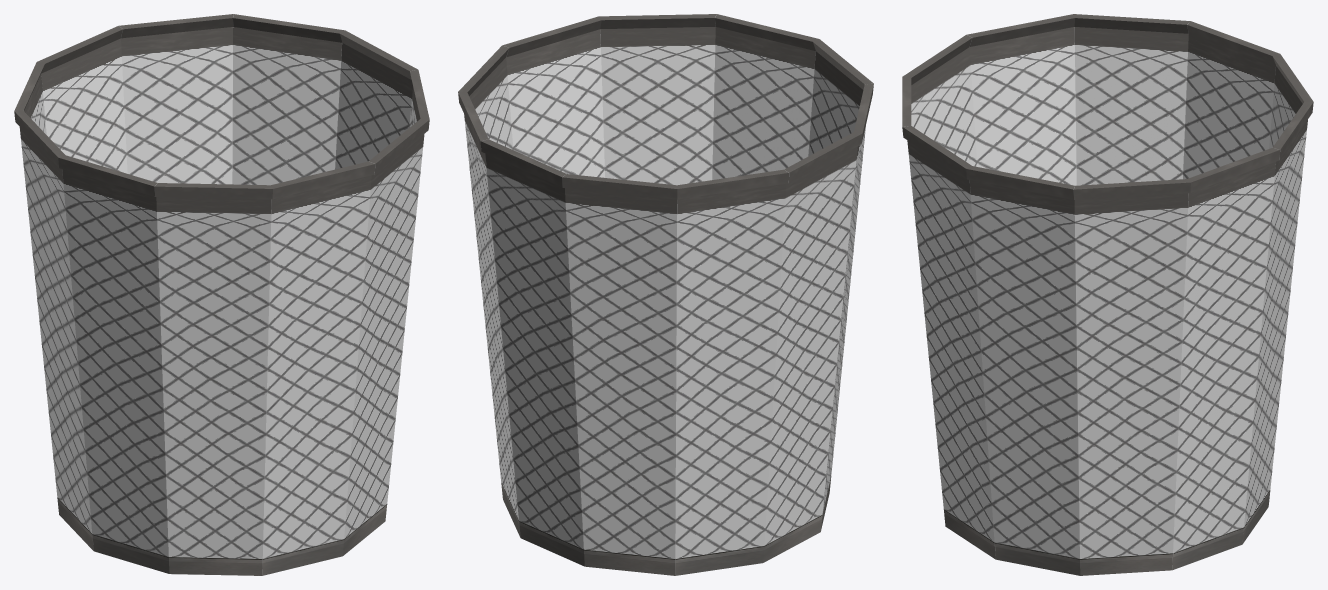
The model's file is SM_Trash_Can.fbx.
3 renders of one model, left to right at view 1: azimuth 30°, elevation 25°; view 2: azimuth 150°, elevation 25°; view 3: azimuth 270°, elevation 25°, orthographic.
Parts seen in each view (by area): view 1: Trash_Can; view 2: Trash_Can; view 3: Trash_Can.
Part boxes in pixels (x1,y1,x2,y2): Trash_Can: (14, 14, 429, 575); Trash_Can: (458, 14, 873, 575); Trash_Can: (902, 14, 1313, 575).
Bounding box in the file's own units: 38.78 × 39.17 × 42.14.
1 material, 1 textured.
